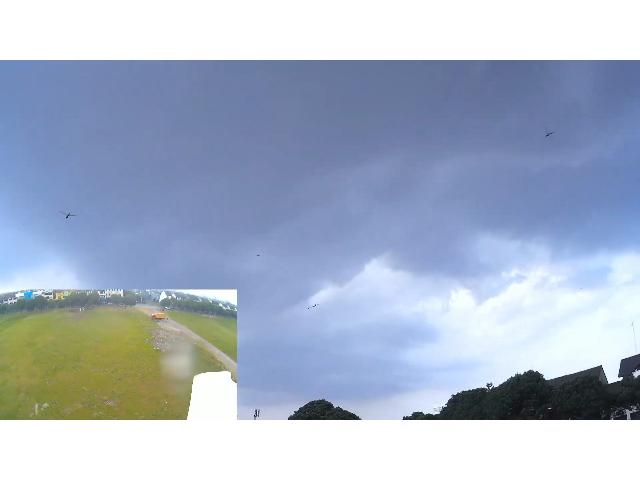Anti-Drone: (305, 299, 329, 313)
